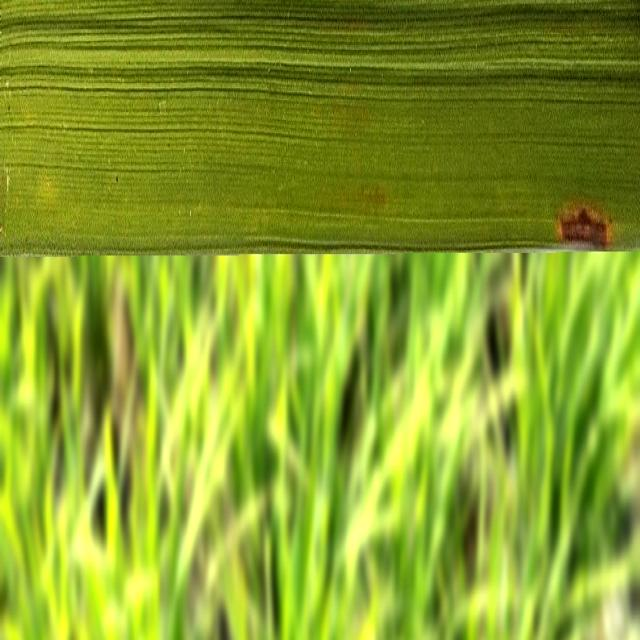LEAF BLAST: (558, 208, 612, 249)
